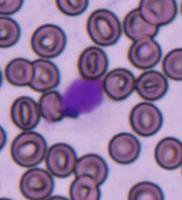L: (60, 77, 109, 123)
